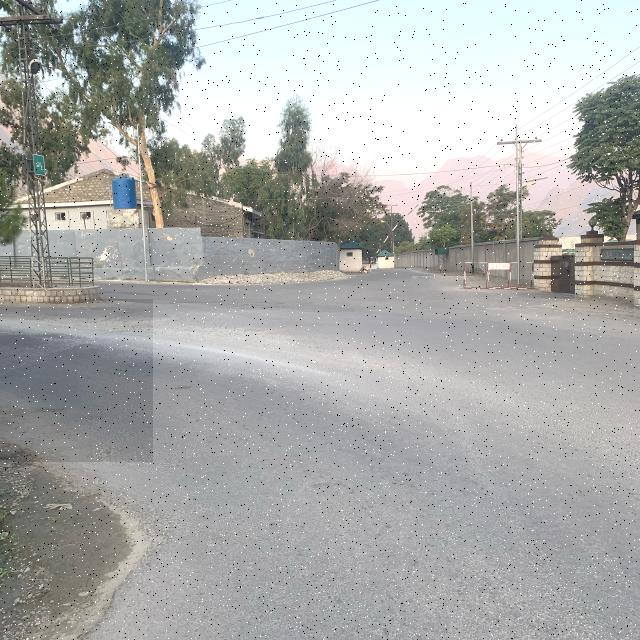left: (0, 299, 153, 462)
